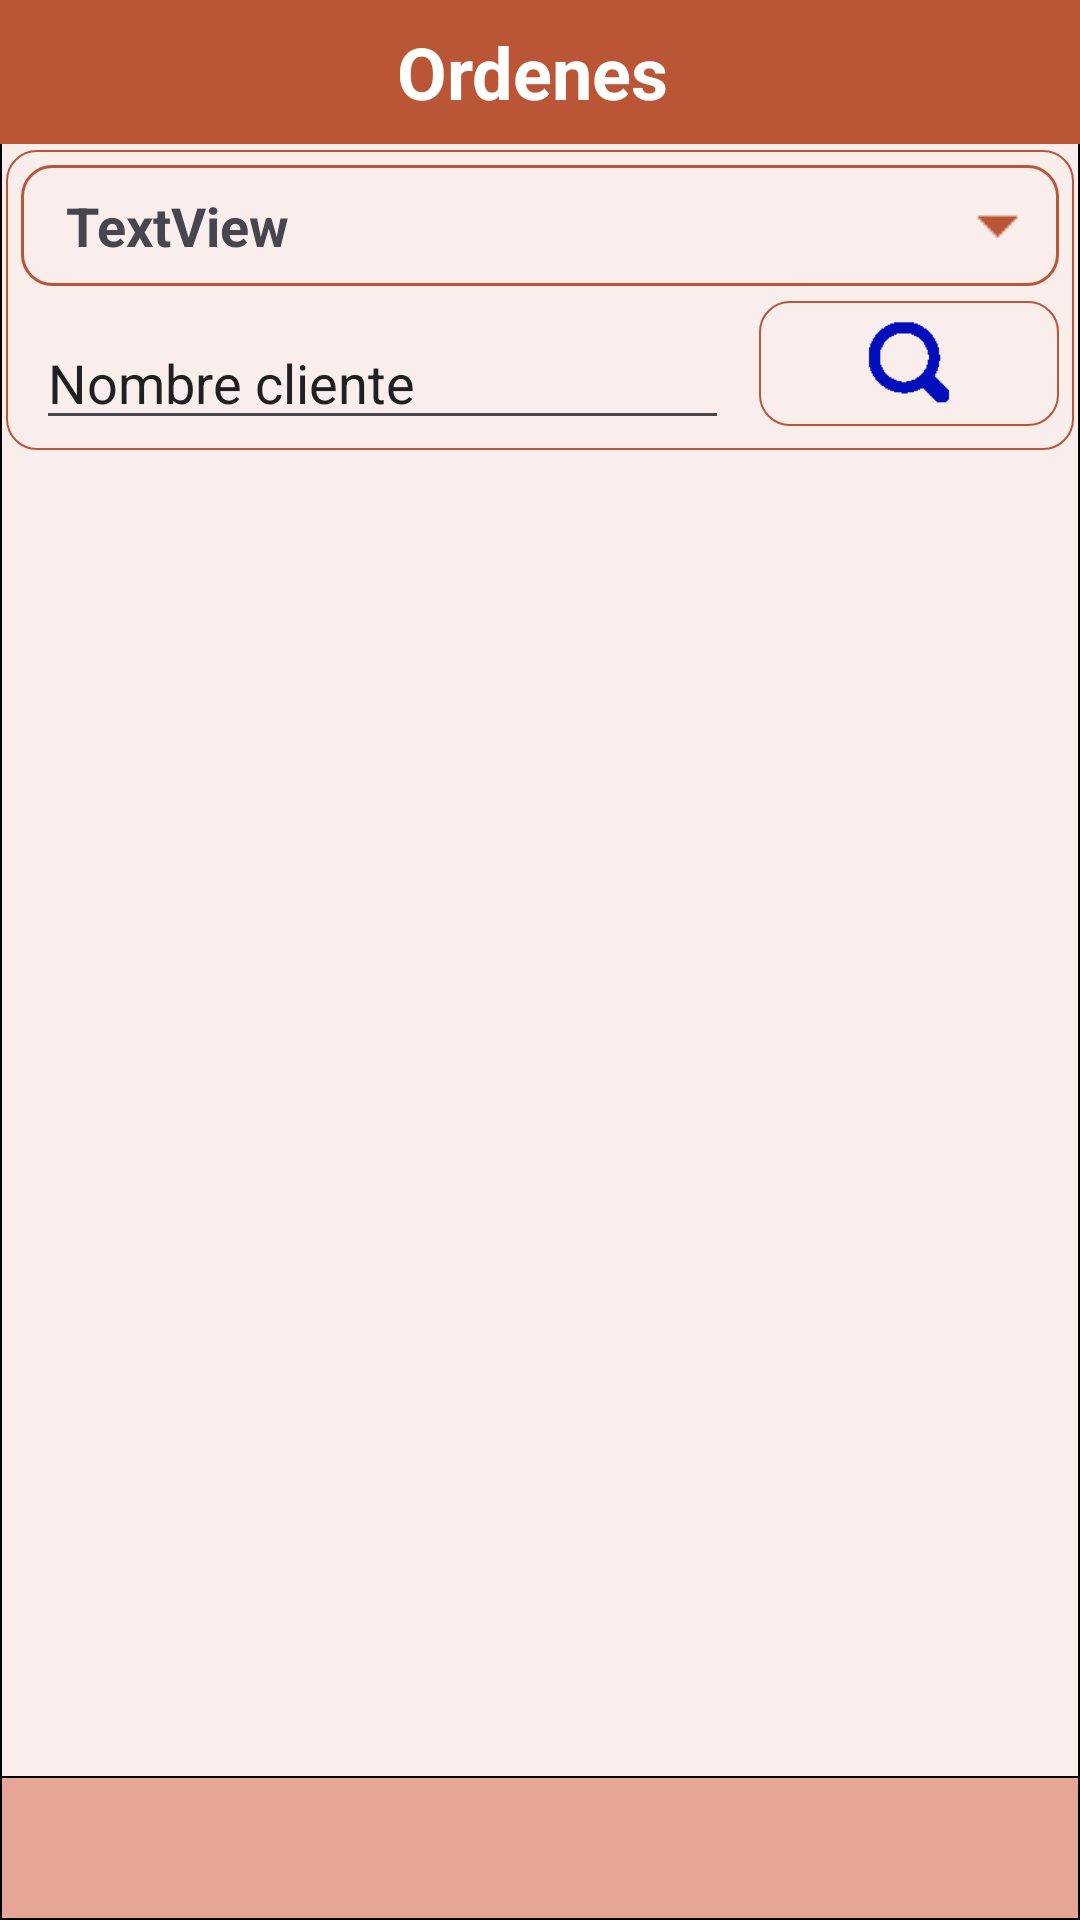

Where to tap for icons on this 1080w x 1920h app screen, as [x,y]:
buscarb: [909,363]
